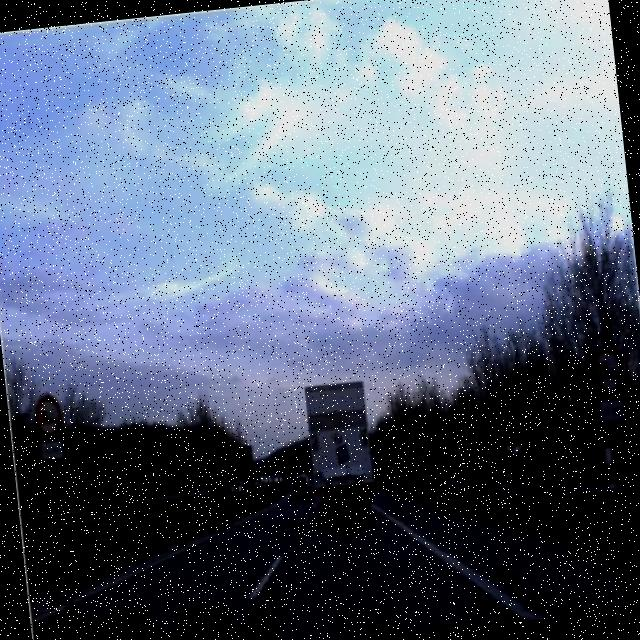Zakaz wyprzedzania: (586, 338, 632, 404), (29, 388, 68, 444)
